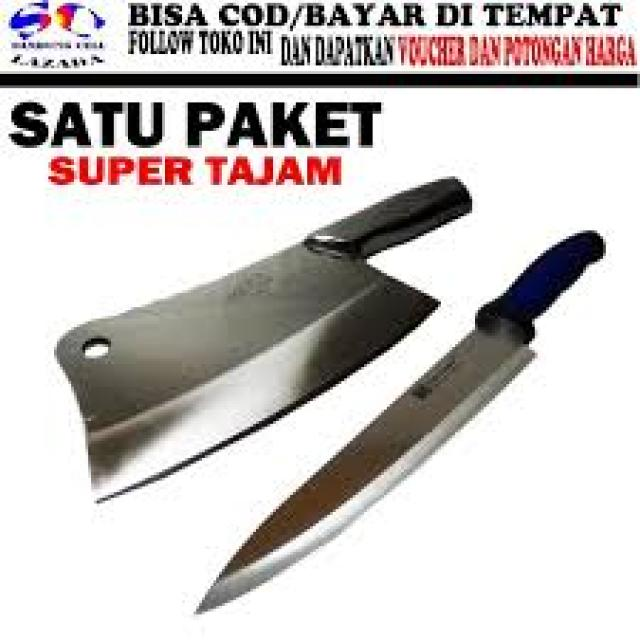Knife: (193, 230, 603, 612), (57, 176, 469, 498)
